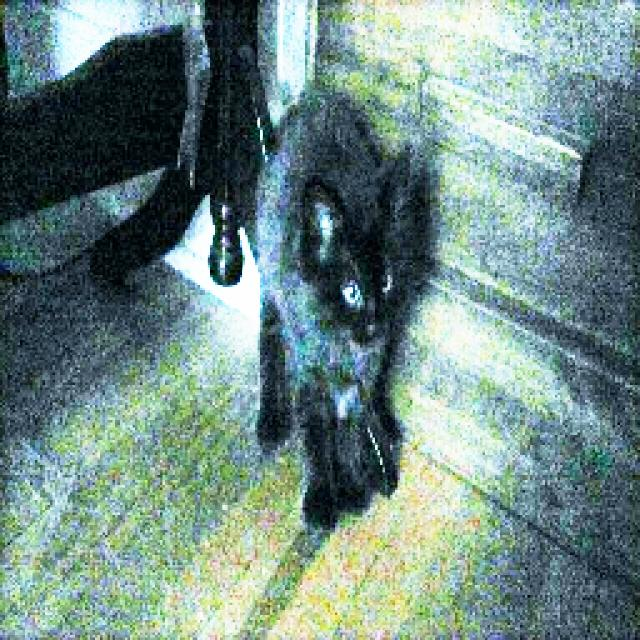cat: (205, 62, 448, 531)
